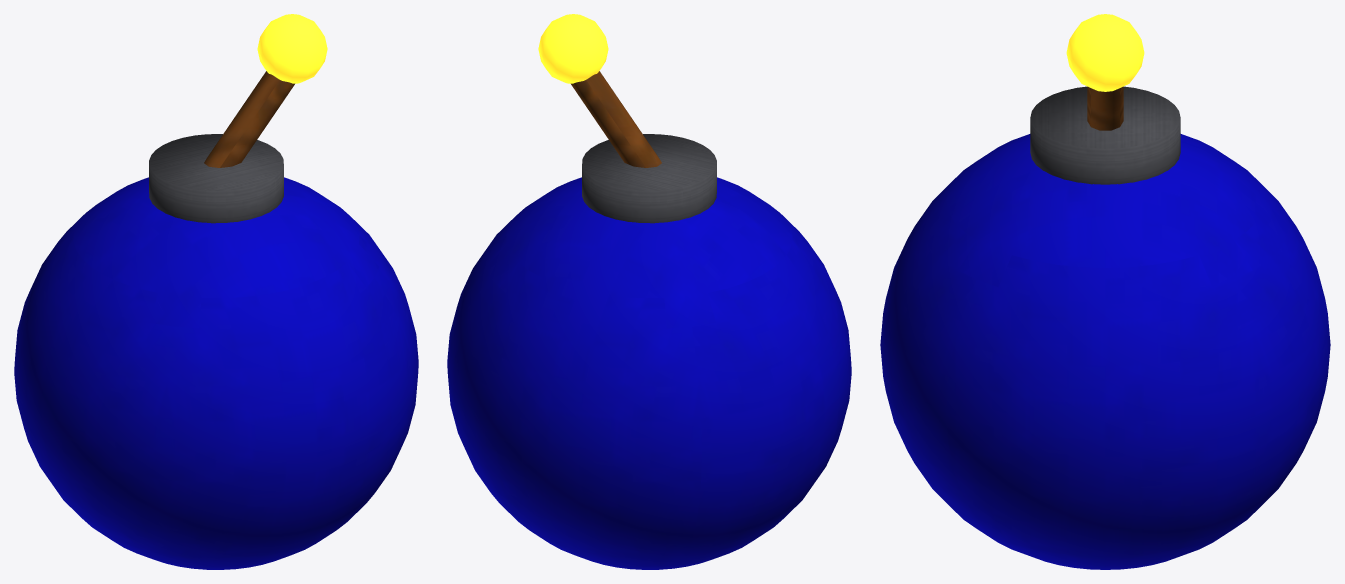
3 views of the same model, side by side, from view 1: azimuth 30°, elevation 25°; view 2: azimuth 150°, elevation 25°; view 3: azimuth 270°, elevation 25° (orthographic). The views are drawn at different scales.
Parts seen in each view (by area): view 1: Bomb, Cap, Spark, Fuse; view 2: Bomb, Cap, Spark, Fuse; view 3: Bomb, Cap, Spark, Fuse.
Part boxes in pixels (x1,y1,x2,y2): Bomb: (14,177,418,569); Cap: (149,134,283,223); Spark: (257,14,327,83); Fuse: (204,71,294,167); Bomb: (447,177,851,569); Cap: (582,134,716,223); Spark: (538,14,608,83); Fuse: (571,71,661,167); Bomb: (880,134,1330,569); Cap: (1030,86,1180,184); Spark: (1066,14,1144,91); Fuse: (1087,86,1123,130).
Bounding box in the file's own units: 0.3 × 0.421 × 0.3.
Materials: 4 (3 with a texture image).
